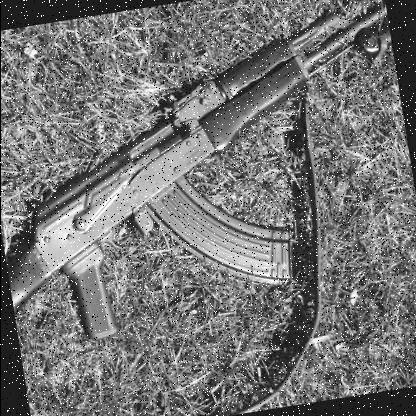rifle: (0, 0, 416, 354)
